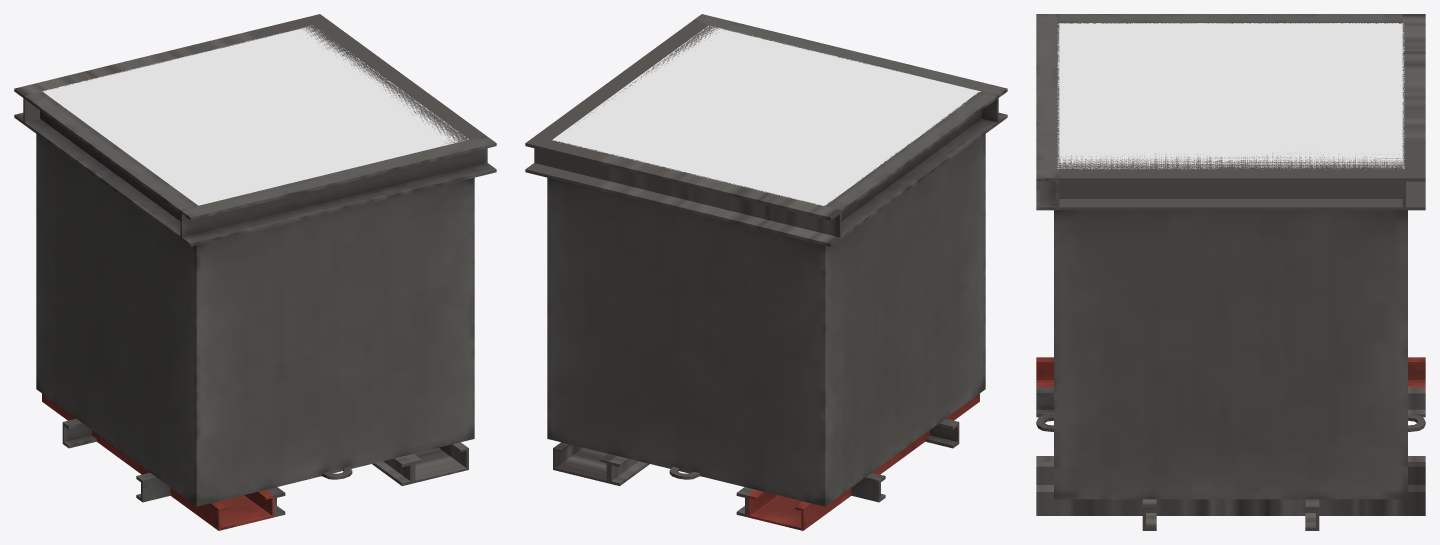
Rendered from objects_un_quarrybox01_close.gltf.
3 renders of one model, left to right at view 1: azimuth 30°, elevation 25°; view 2: azimuth 150°, elevation 25°; view 3: azimuth 270°, elevation 25°, orthographic. The views are drawn at different scales.
Parts seen in each view (by area): view 1: um_objects_un_quarrybox01_close_model_lod0Shape:objects_un_q (×2); view 2: um_objects_un_quarrybox01_close_model_lod0Shape:objects_un_q (×2); view 3: um_objects_un_quarrybox01_close_model_lod0Shape:objects_un_q (×2).
Boxes of the visible parts, bbox=[...] form: um_objects_un_quarrybox01_close_model_lod0Shape:objects_un_q (×2): bbox=[14, 14, 496, 530]; um_objects_un_quarrybox01_close_model_lod0Shape:objects_un_q (×2): bbox=[525, 14, 1007, 530]; um_objects_un_quarrybox01_close_model_lod0Shape:objects_un_q (×2): bbox=[1036, 14, 1425, 530].
Size of what is drawn, in the model's own units: 2.2 by 2.2 by 2.2.
2 materials, 1 textured.
